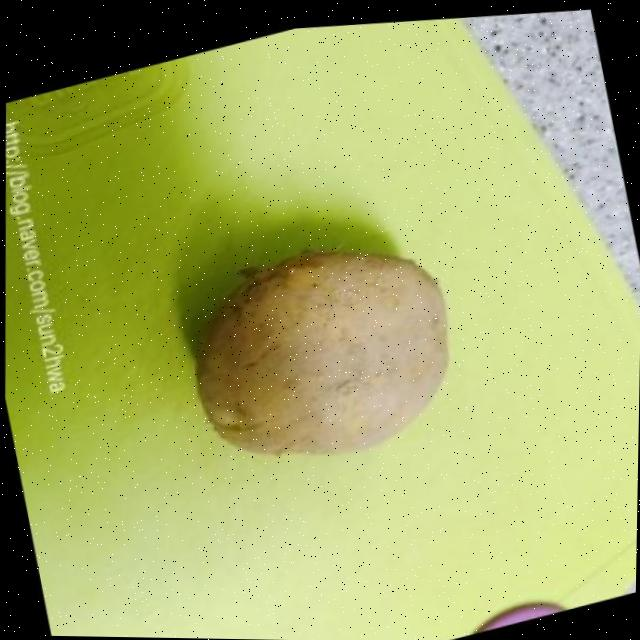Potato: (164, 210, 475, 490)
